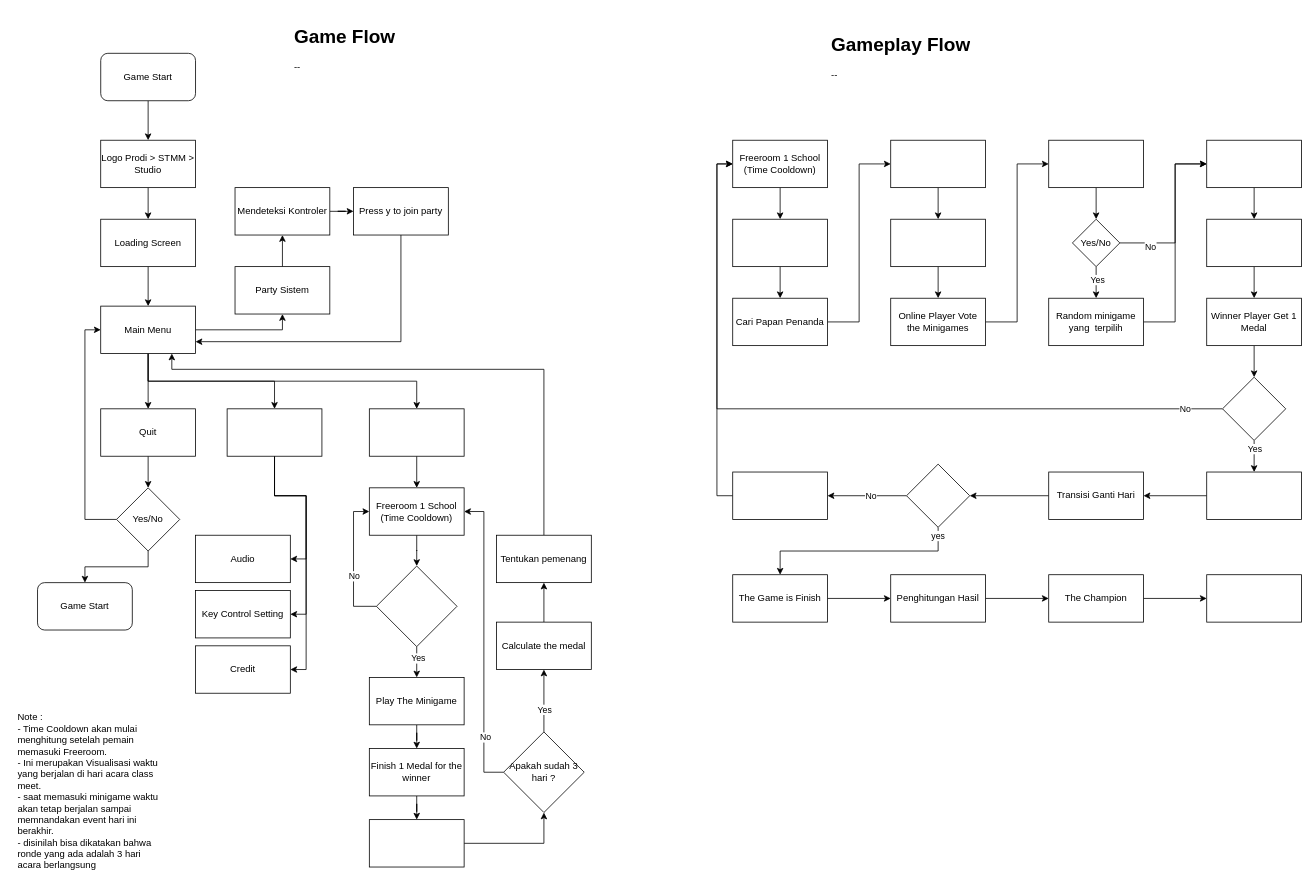
Image size: 1315x888. Some labels were removed from this diagram. The centre of each missing label's shape, as x and y in pixels:
1 day is clear: pixel 416 843
Apakah Hasil Vote Seri ke lebih dari satu Minigames?: pixel 1096 163
Apakah sudah 3 hari: pixel 938 495
Battle Begin: pixel 416 432
Day 1 Finis: pixel 1254 495
If 3 Player Vote minigame: pixel 416 606
Kembali ke MainMenu: pixel 1254 598
Minigame Selasai: pixel 1254 242
Muncul Popup Menu Level Selection: pixel 938 242
Online Player Interaksi Papan Penanda: pixel 938 163
Online Player Kunjungi Lapangan yang sama: pixel 780 242
Play Minigame: pixel 1254 163
Reset Cooldown: pixel 780 495
Setting: pixel 274 432
Time Cd = 0?: pixel 1254 408
